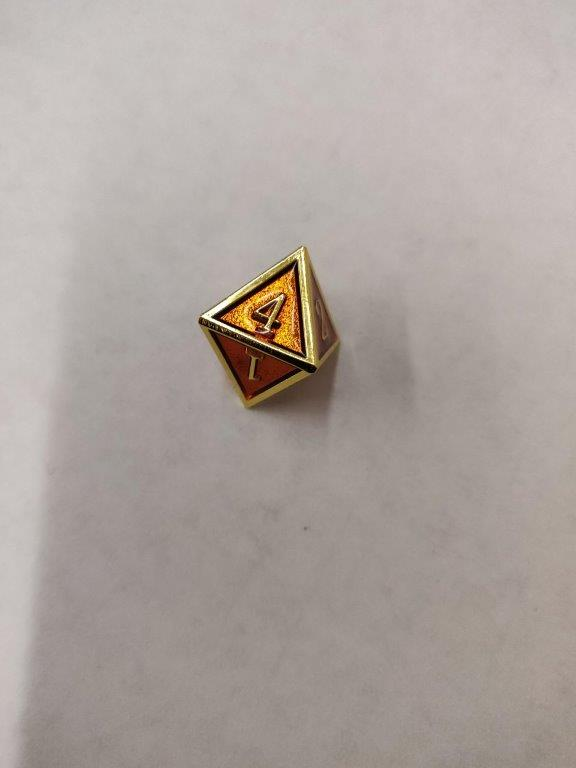d8-4: (194, 244, 340, 408)
